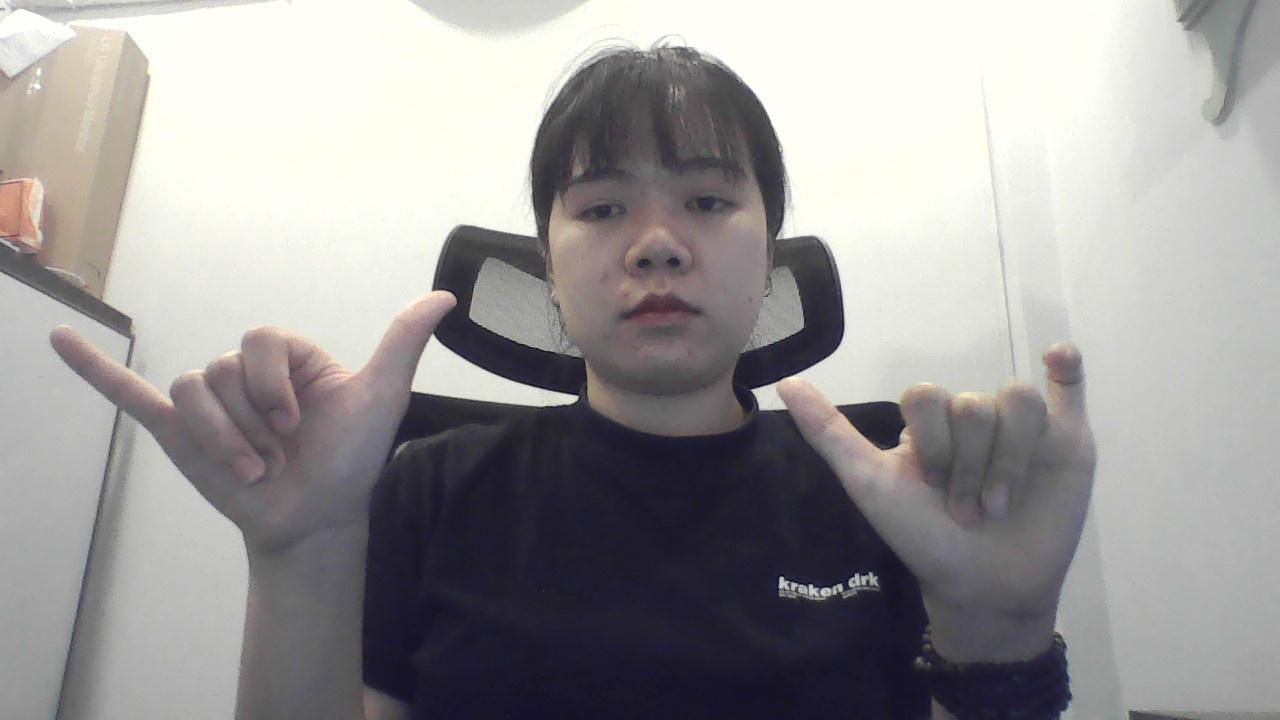Y: (41, 275, 470, 575), (787, 344, 1172, 622)
